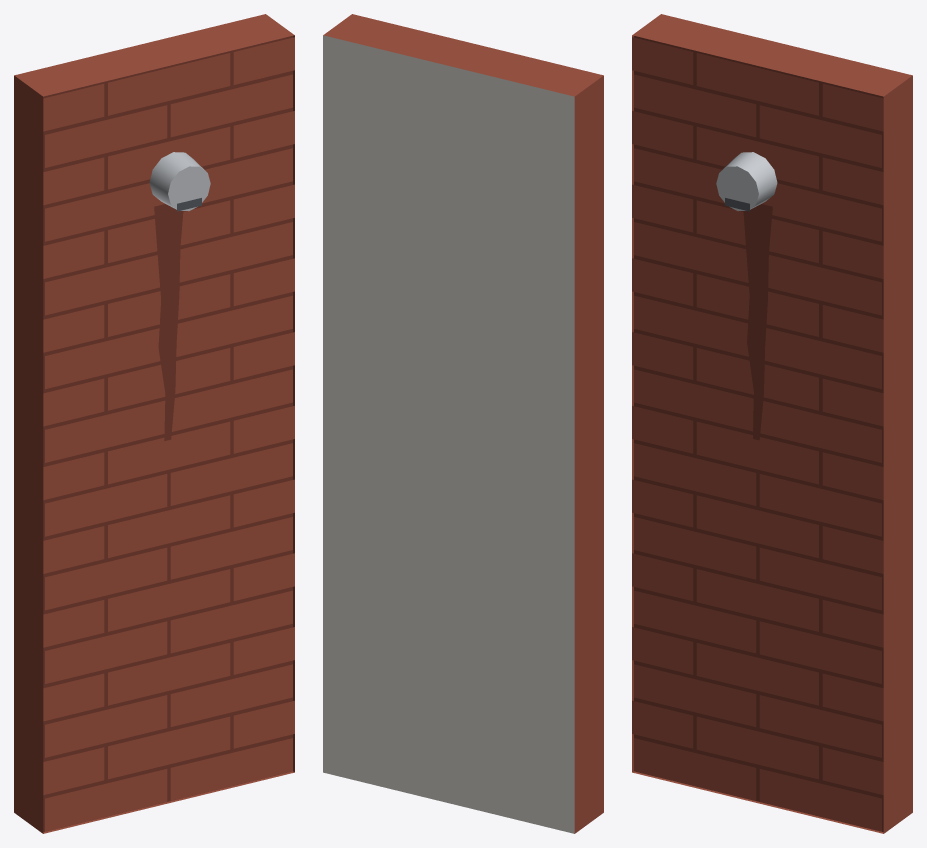
Rendered from SC_Bld_Villa_Wall_Brick_Vent_1m.gltf.
The picture shows the model from 3 angles, left to right: view 1: azimuth 30°, elevation 25°; view 2: azimuth 150°, elevation 25°; view 3: azimuth 330°, elevation 25°; orthographic projection.
Visible parts, largest first — view 1: SC_Bld_Villa_Wall_Brick_Vent_1m; view 2: SC_Bld_Villa_Wall_Brick_Vent_1m; view 3: SC_Bld_Villa_Wall_Brick_Vent_1m.
Boxes of the visible parts, x1,y1,x2,y2 form: SC_Bld_Villa_Wall_Brick_Vent_1m: (14, 14, 294, 833); SC_Bld_Villa_Wall_Brick_Vent_1m: (323, 14, 603, 833); SC_Bld_Villa_Wall_Brick_Vent_1m: (632, 14, 912, 833).
Bounding box in the file's own units: 1 × 2.8 × 0.341.
Materials: 1 (1 with a texture image).
